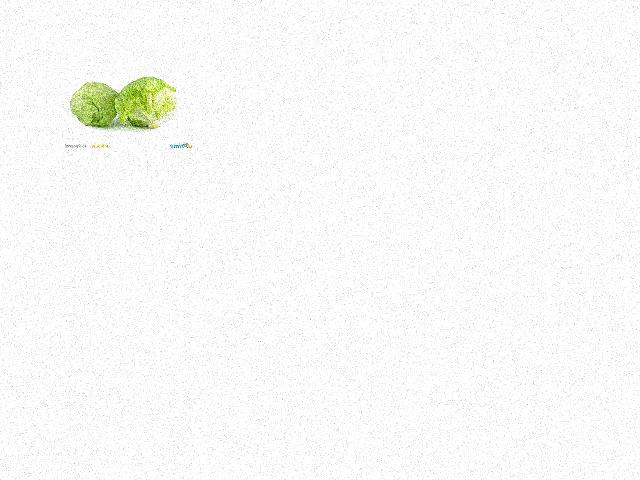lettuce: (68, 81, 132, 137)
